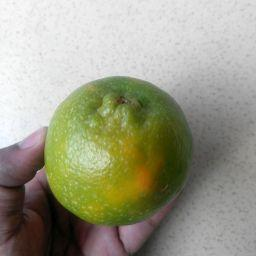Unripe: (45, 78, 193, 223)
